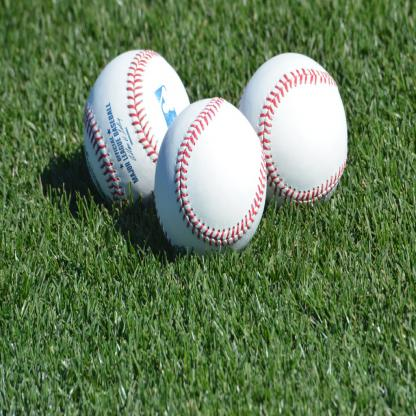Ball: (155, 96, 266, 261), (83, 50, 189, 214), (237, 54, 346, 208)
